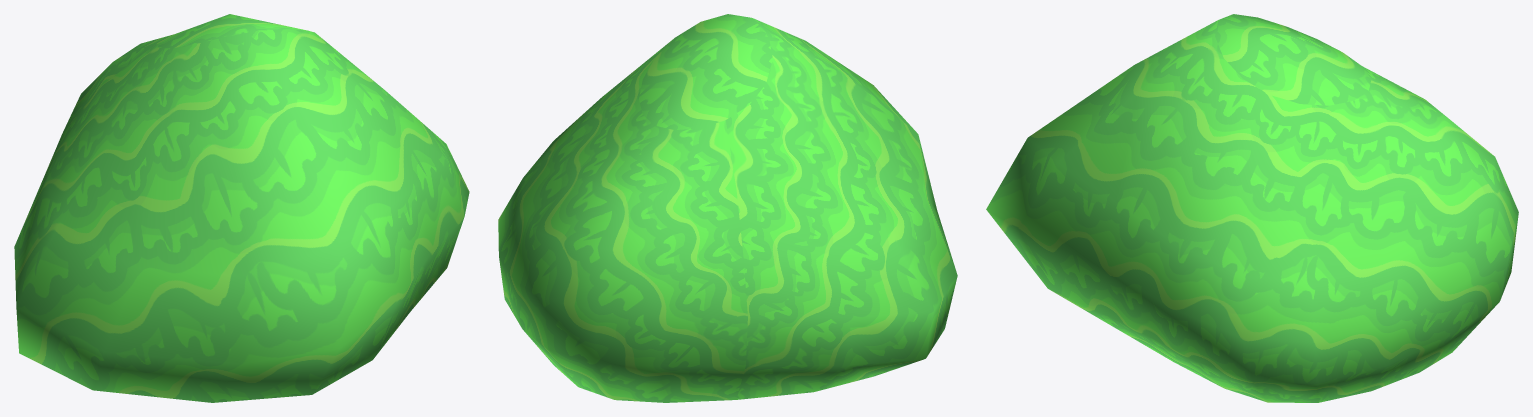
Rendered from P_Bush_2.fbx.
The picture shows the model from 3 angles, left to right: view 1: azimuth 30°, elevation 25°; view 2: azimuth 150°, elevation 25°; view 3: azimuth 270°, elevation 25°; orthographic projection. The views are drawn at different scales.
Visible parts, largest first — view 1: Sphere.003; view 2: Sphere.003; view 3: Sphere.003.
Part boxes in pixels (x1,y1,x2,y2): Sphere.003: (14,14,469,402); Sphere.003: (498,14,957,402); Sphere.003: (986,14,1518,402).
Size of the model in its own units: 3.59 by 2.48 by 3.94.
